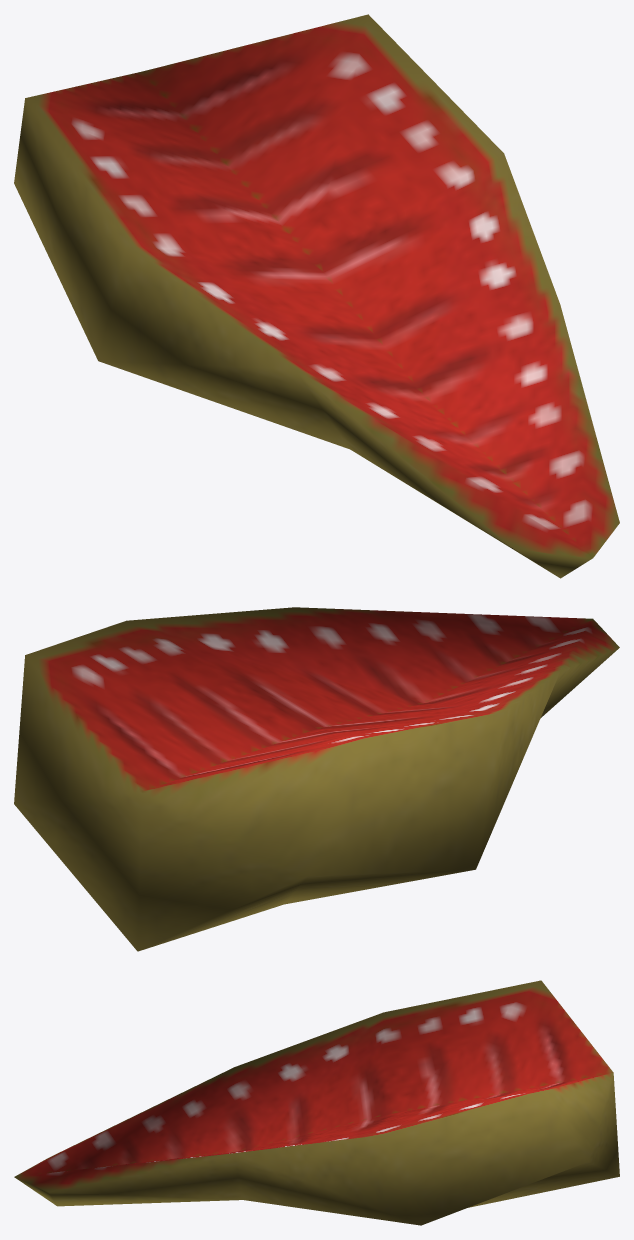
The model's file is Mandibula.obj.
The picture shows the model from 3 angles, top to bottom: view 1: azimuth 30°, elevation 25°; view 2: azimuth 150°, elevation 25°; view 3: azimuth 270°, elevation 25°; orthographic projection. The views are drawn at different scales.
Parts seen in each view (by area): view 1: Mandibula_body.001_Plane.008; view 2: Mandibula_body.001_Plane.008; view 3: Mandibula_body.001_Plane.008.
Part boxes in pixels (x1,y1,x2,y2): Mandibula_body.001_Plane.008: (14,14,619,578); Mandibula_body.001_Plane.008: (14,607,619,951); Mandibula_body.001_Plane.008: (14,980,619,1225).
Size of the model in its own units: 0.2142 by 0.147 by 0.4473.
Materials: 1 (1 with a texture image).
